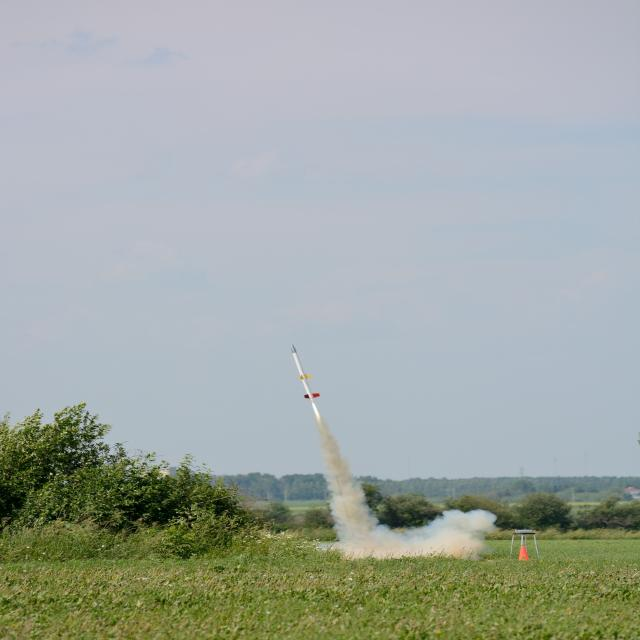Rocket: (290, 342, 321, 399)
